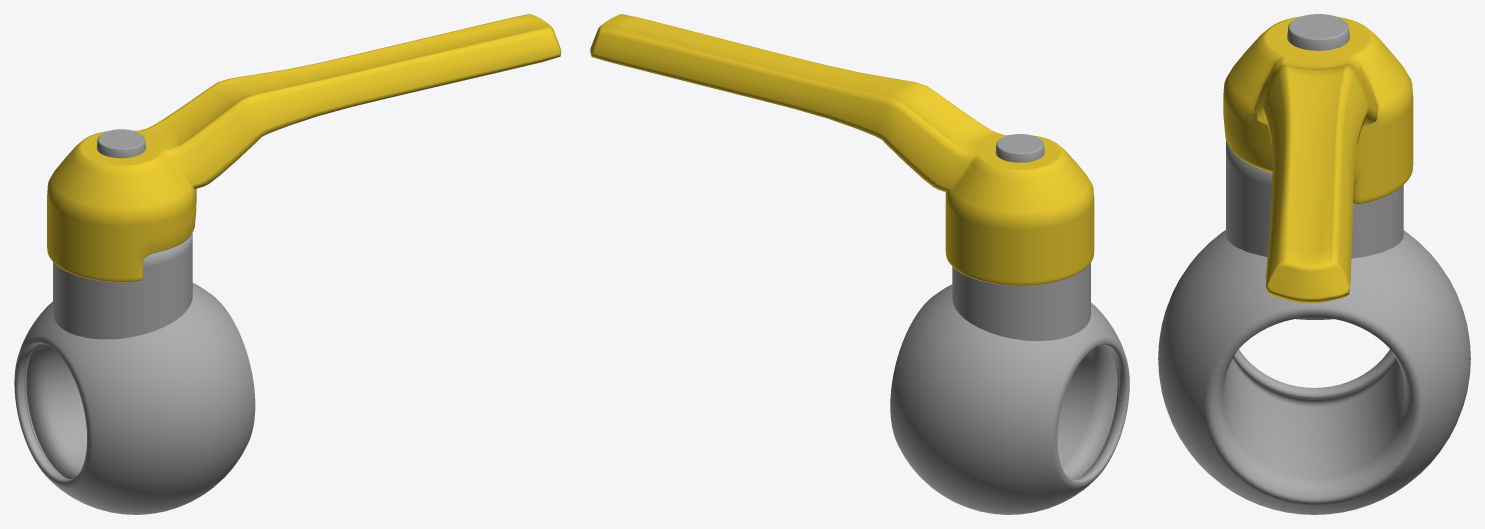
File: zawor_kulowy_three_kula3_kurek.glb
The picture shows the model from 3 angles, left to right: view 1: azimuth 30°, elevation 25°; view 2: azimuth 150°, elevation 25°; view 3: azimuth 270°, elevation 25°; orthographic projection. The views are drawn at different scales.
Visible parts, largest first — view 1: Circle.001, Cylinder.002; view 2: Circle.001, Cylinder.002; view 3: Circle.001, Cylinder.002.
Boxes of the visible parts, x1,y1,x2,y2 form: Circle.001: (14, 14, 561, 514); Cylinder.002: (53, 233, 192, 339); Circle.001: (590, 14, 1129, 514); Cylinder.002: (952, 263, 1090, 340); Circle.001: (1158, 14, 1470, 514); Cylinder.002: (1226, 141, 1403, 319).
Size of the model in its own units: 2.45 by 1.82 by 1.04.
